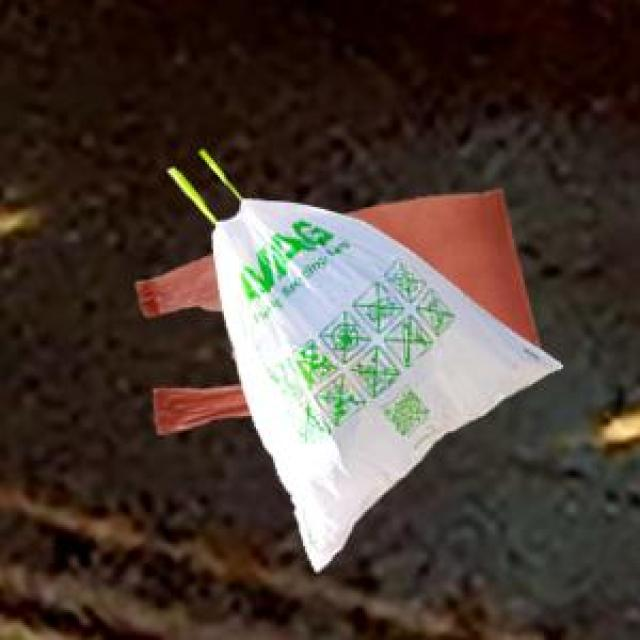plastic: (98, 119, 596, 586)
